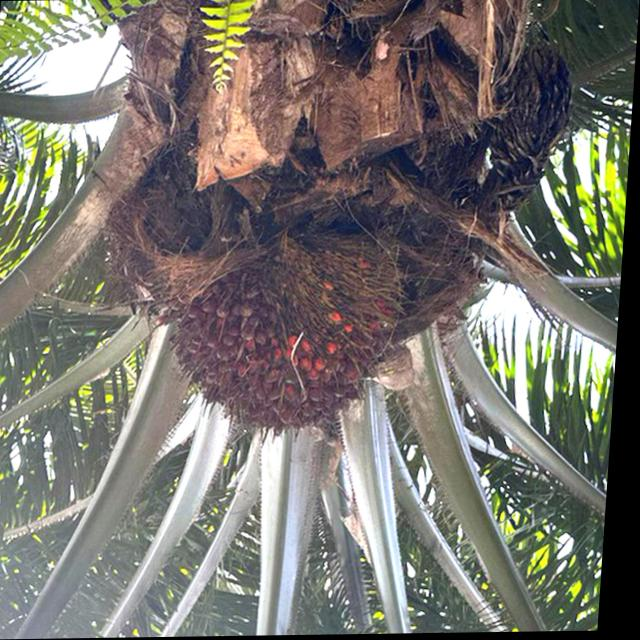ripe: (143, 220, 438, 457)
